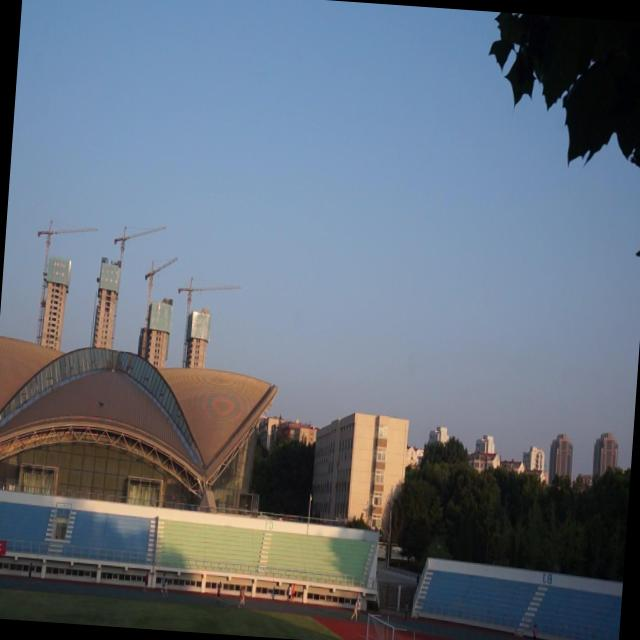drone: (94, 394, 106, 412)
